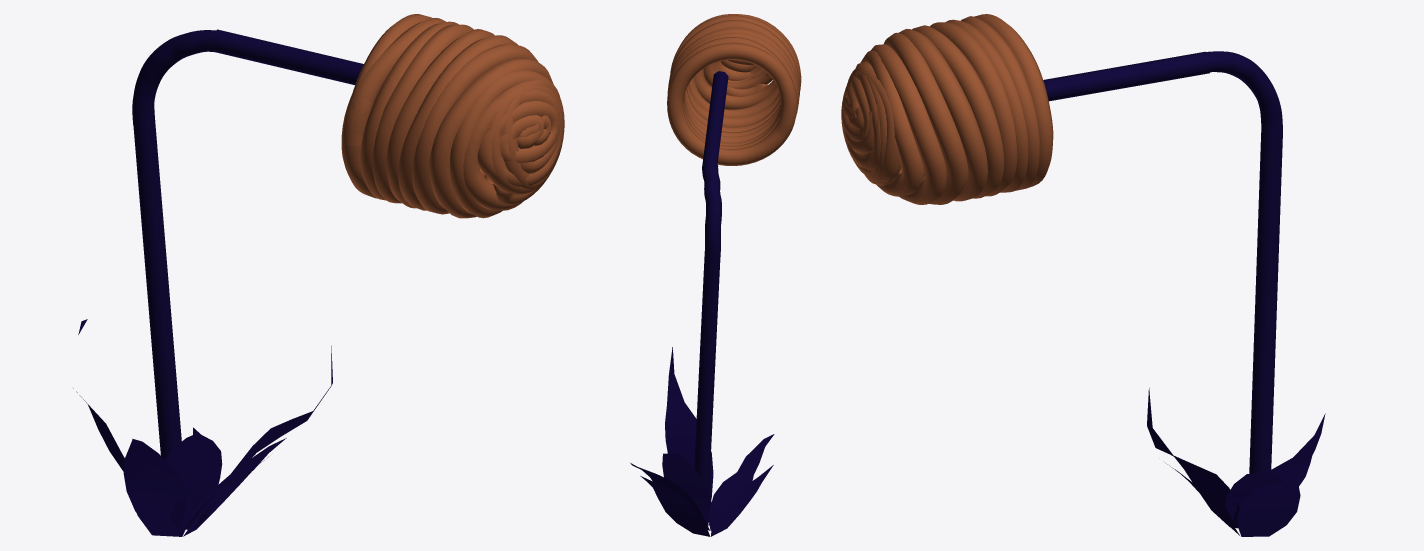
3 views of the same model, side by side, from view 1: azimuth 30°, elevation 25°; view 2: azimuth 150°, elevation 25°; view 3: azimuth 270°, elevation 25° (orthographic). The views are drawn at different scales.
Visible parts, largest first — view 1: brush_Icing_g1_b0, brush_Petal_g1_b0; view 2: brush_Icing_g1_b0, brush_Petal_g1_b0; view 3: brush_Icing_g1_b0, brush_Petal_g1_b0.
Boxes of the visible parts, x1=… form: brush_Icing_g1_b0: x1=132, y1=14, x2=564, y2=459; brush_Petal_g1_b0: x1=73, y1=319, x2=332, y2=536; brush_Icing_g1_b0: x1=667, y1=14, x2=801, y2=492; brush_Petal_g1_b0: x1=630, y1=347, x2=774, y2=536; brush_Icing_g1_b0: x1=841, y1=14, x2=1282, y2=473; brush_Petal_g1_b0: x1=1147, y1=388, x2=1325, y2=536.
Size of the model in its own units: 4.69 by 7.78 by 7.2.
